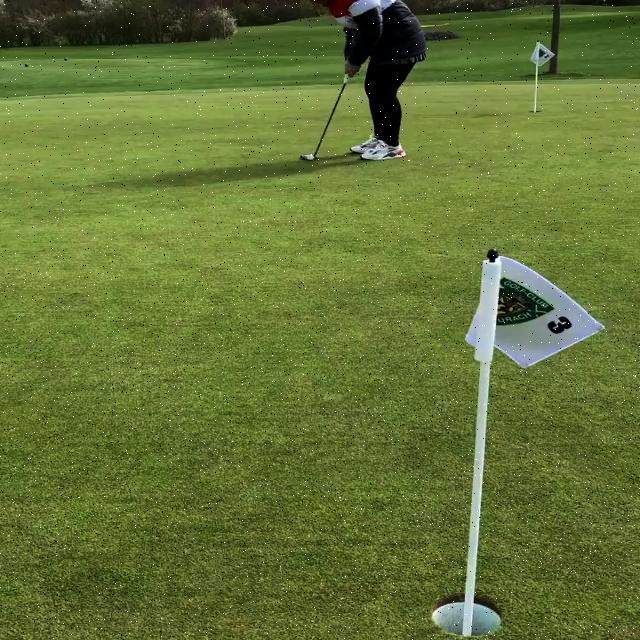golf ball: (308, 155, 314, 160)
golf club-handle: (299, 76, 349, 162)
golf club-head: (299, 155, 317, 161)
